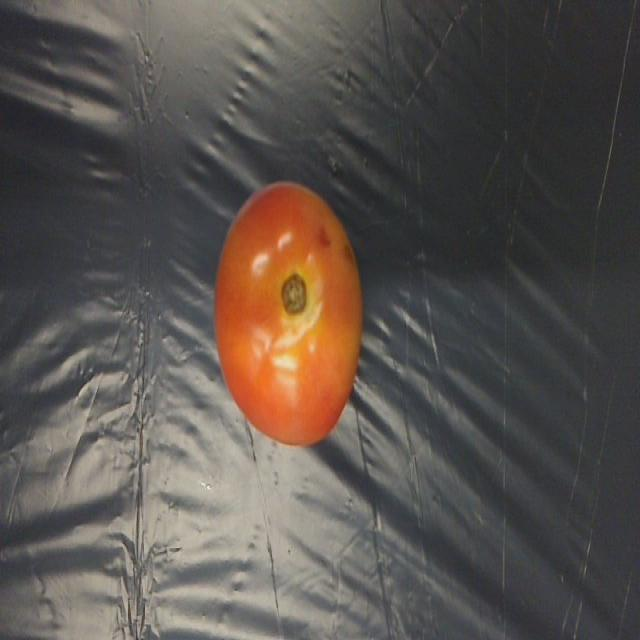sari: (203, 156, 381, 476)
